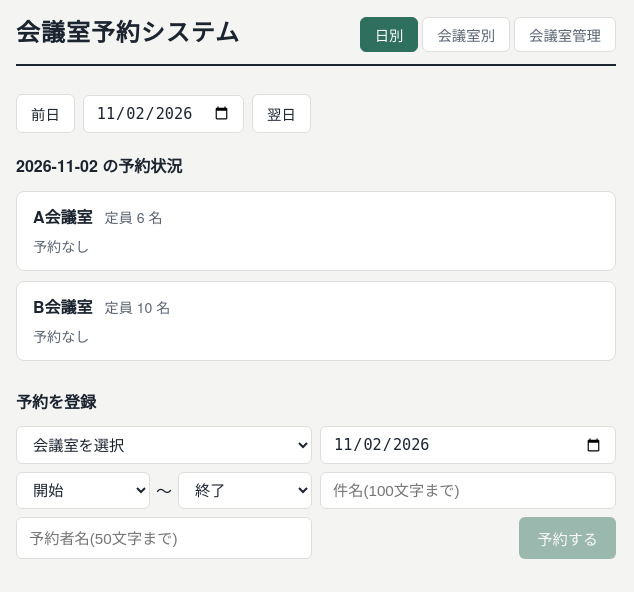
Test case: 会議室管理 › 編集をキャンセルするとAPIを呼ばずに表示に戻る
This screenshot has width=634, height=592.
Click the button "会議室管理" at (565, 34), box [514,17,616,52]
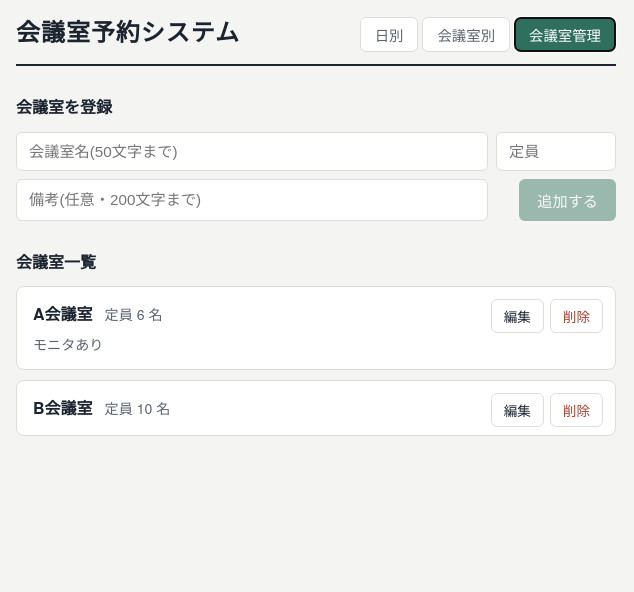
Expected: the text "A会議室" is shown, [33,301,93,327]
Click the button with aria-label "会議室「A会議室」を編集" at (517, 316), box [491,299,544,333]
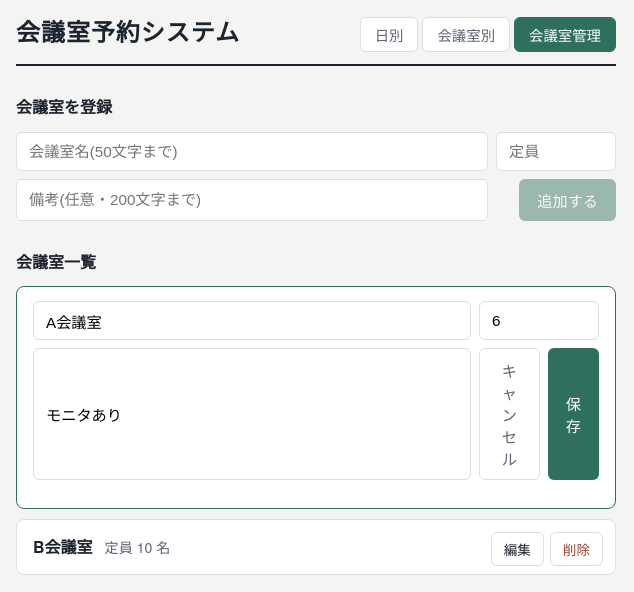
Replace the text in the field named "会議室名" with "変更途中" at (252, 321), box [33,301,471,340]
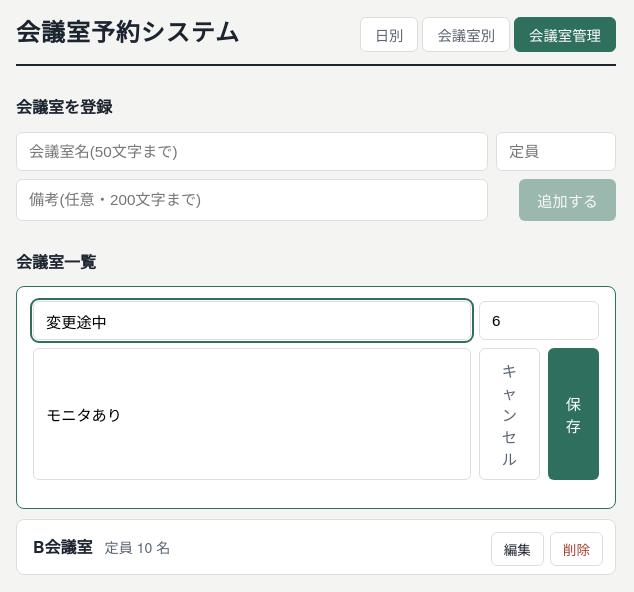
Click the button "キャンセル" at (509, 414), box [479,348,540,480]
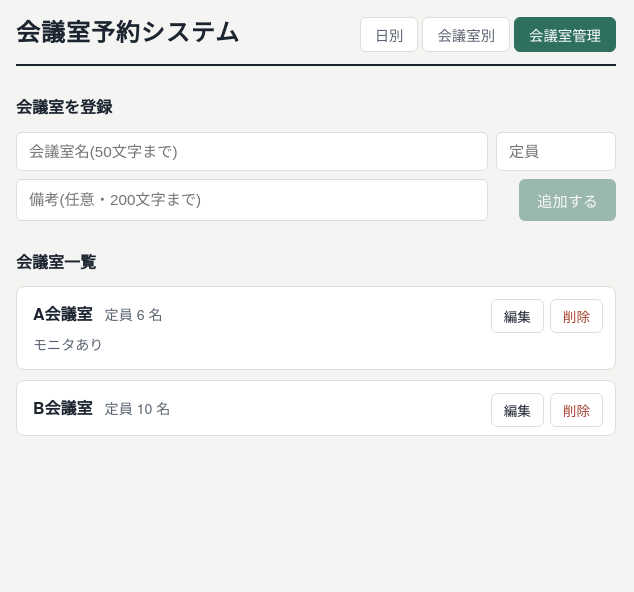
Expected: the text "変更途中" is not shown
Expected: the text "A会議室" is shown, [33,301,93,327]
